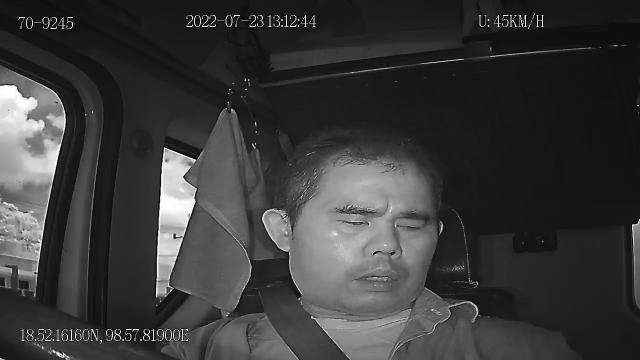Seatbelt: (255, 284, 352, 360)
